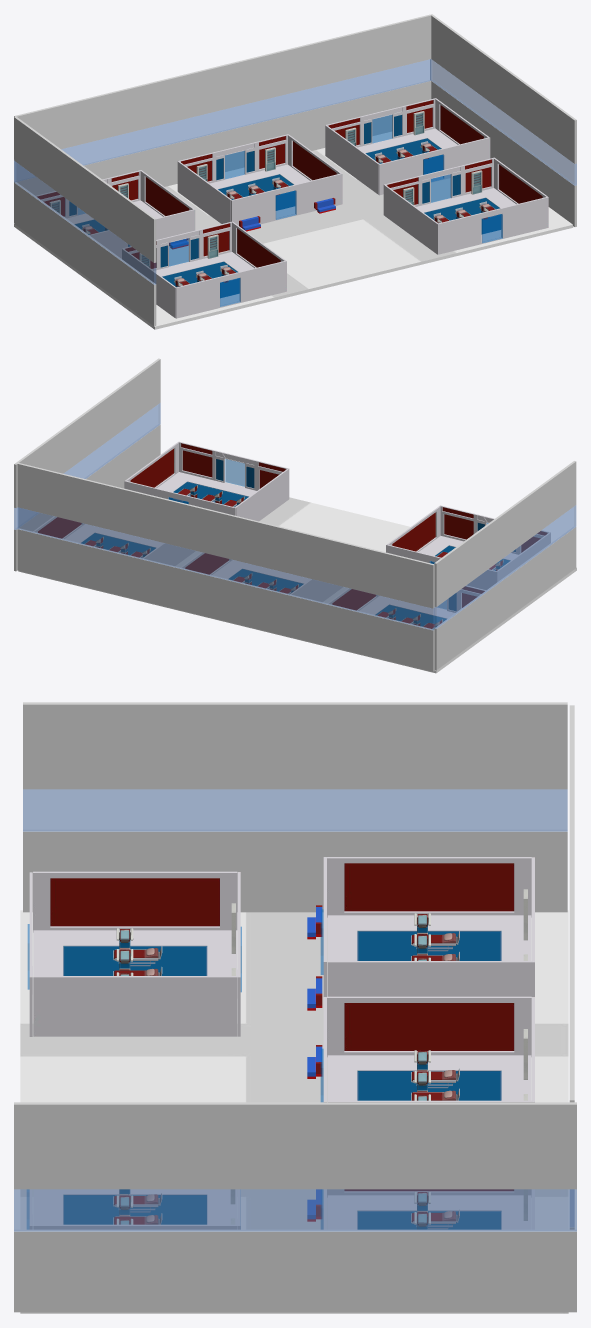
3 views of the same model, one above another, from view 1: azimuth 30°, elevation 25°; view 2: azimuth 150°, elevation 25°; view 3: azimuth 270°, elevation 25° (orthographic). The views are drawn at different scales.
Parts seen in each view (by area): view 1: pasted__pCube21, pasted__pCube23, pCube1, pasted__pCube22, PAREDE_R2, PAREDE_R5, PAREDE_R4, PAREDE_R3, polySurface14, polySurface15, polySurface12, polySurface13 (+11 smaller); view 2: pasted__pCube21, pasted__pCube23, pasted__pCube22, pCube1, PAREDE_R2, PAREDE_R3, PAREDE_R5, PAREDE_R4, polySurface14, polySurface15, polySurface10, polySurface7 (+2 smaller); view 3: pasted__pCube22, pasted__pCube23, pCube1, PAREDE_R3, PAREDE_R5, polySurface9, polySurface10, polySurface7, PAREDE_R4, PAREDE_R2, pasted__pCube21.
Part boxes in pixels (left/top/right/bottom): pasted__pCube21: left=14, top=14, right=431, bottom=222; pasted__pCube23: left=14, top=116, right=156, bottom=326; pCube1: left=14, top=131, right=573, bottom=329; pasted__pCube22: left=430, top=14, right=576, bottom=226; PAREDE_R2: left=383, top=157, right=547, bottom=253; PAREDE_R5: left=177, top=134, right=341, bottom=223; PAREDE_R4: left=325, top=98, right=488, bottom=194; PAREDE_R3: left=122, top=221, right=285, bottom=317; polySurface14: left=437, top=196, right=548, bottom=254; polySurface15: left=175, top=260, right=286, bottom=318; polySurface12: left=231, top=173, right=342, bottom=225; polySurface13: left=378, top=137, right=490, bottom=195; pasted__pCube21: left=17, top=463, right=434, bottom=671; pasted__pCube23: left=434, top=461, right=576, bottom=670; pasted__pCube22: left=14, top=358, right=160, bottom=571; pCube1: left=18, top=481, right=576, bottom=673; PAREDE_R2: left=124, top=442, right=288, bottom=521; PAREDE_R3: left=386, top=506, right=549, bottom=589; PAREDE_R5: left=181, top=552, right=342, bottom=601; PAREDE_R4: left=33, top=516, right=194, bottom=565; polySurface14: left=178, top=441, right=289, bottom=499; polySurface15: left=440, top=505, right=550, bottom=554; polySurface10: left=360, top=596, right=454, bottom=626; polySurface7: left=328, top=588, right=378, bottom=610; pasted__pCube22: left=14, top=1102, right=576, bottom=1312; pasted__pCube23: left=23, top=702, right=567, bottom=912; pCube1: left=20, top=910, right=568, bottom=1313; PAREDE_R3: left=33, top=871, right=240, bottom=1036; PAREDE_R5: left=327, top=996, right=534, bottom=1102; polySurface9: left=327, top=857, right=531, bottom=917; polySurface10: left=327, top=915, right=531, bottom=960; polySurface7: left=327, top=961, right=531, bottom=996; PAREDE_R4: left=327, top=1189, right=534, bottom=1229; PAREDE_R2: left=33, top=1189, right=240, bottom=1229; pasted__pCube21: left=569, top=705, right=574, bottom=1229.
Bounding box in the file's own units: 111 × 27.65 × 66.04.
11 materials, 6 textured.
